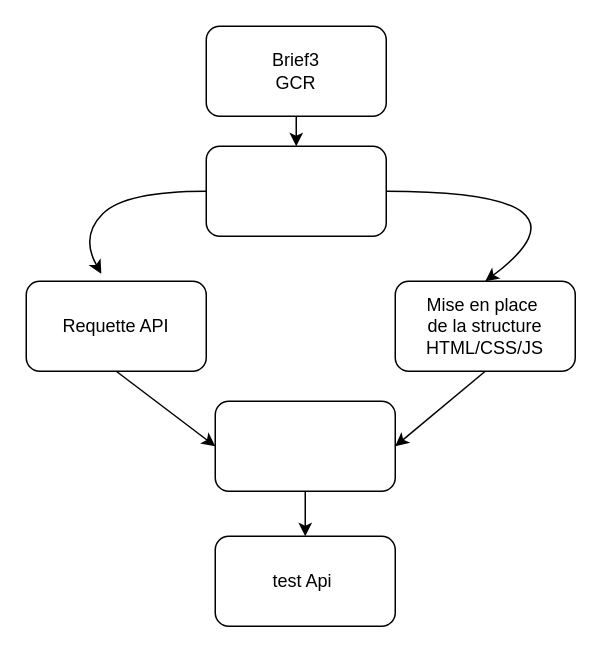
Some shapes in this 602 by 653 pixel diagram are drawn without their labels. Each missing label, with the box of its shape:
MERGE: (214, 400, 395, 491)
projet Git, Agile: (205, 145, 386, 236)
